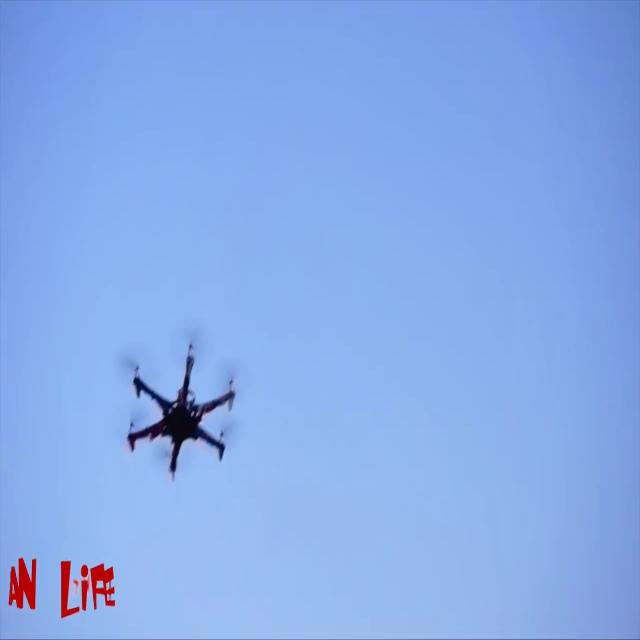drone: (115, 329, 249, 474)
